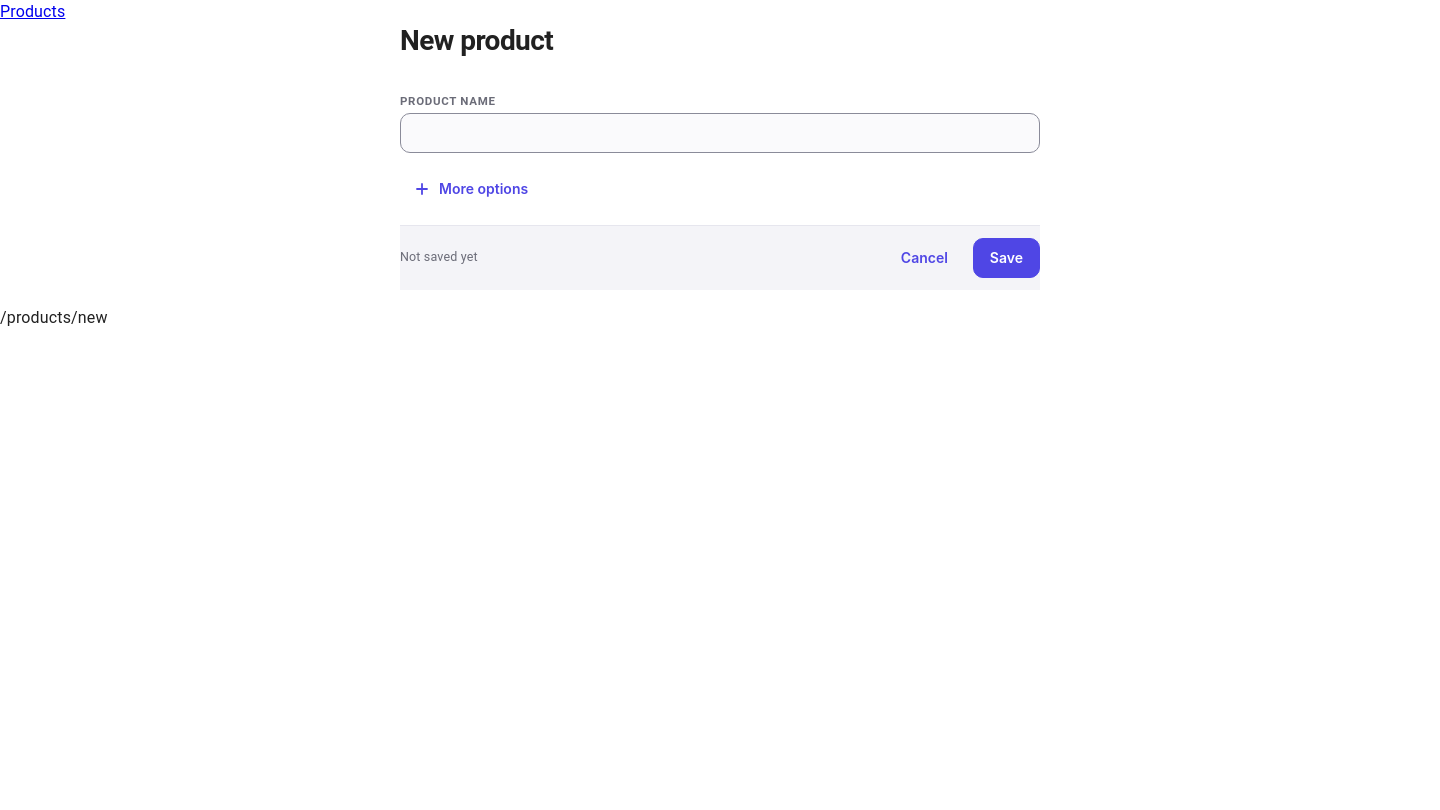
Test: leaving with unsaved changes asks first › a link stops and asks, Stay keeps you here with your changes, Leave goes on
Type "Soap" into the field labelled "Product name" at (720,132), box [401,114,1039,152]
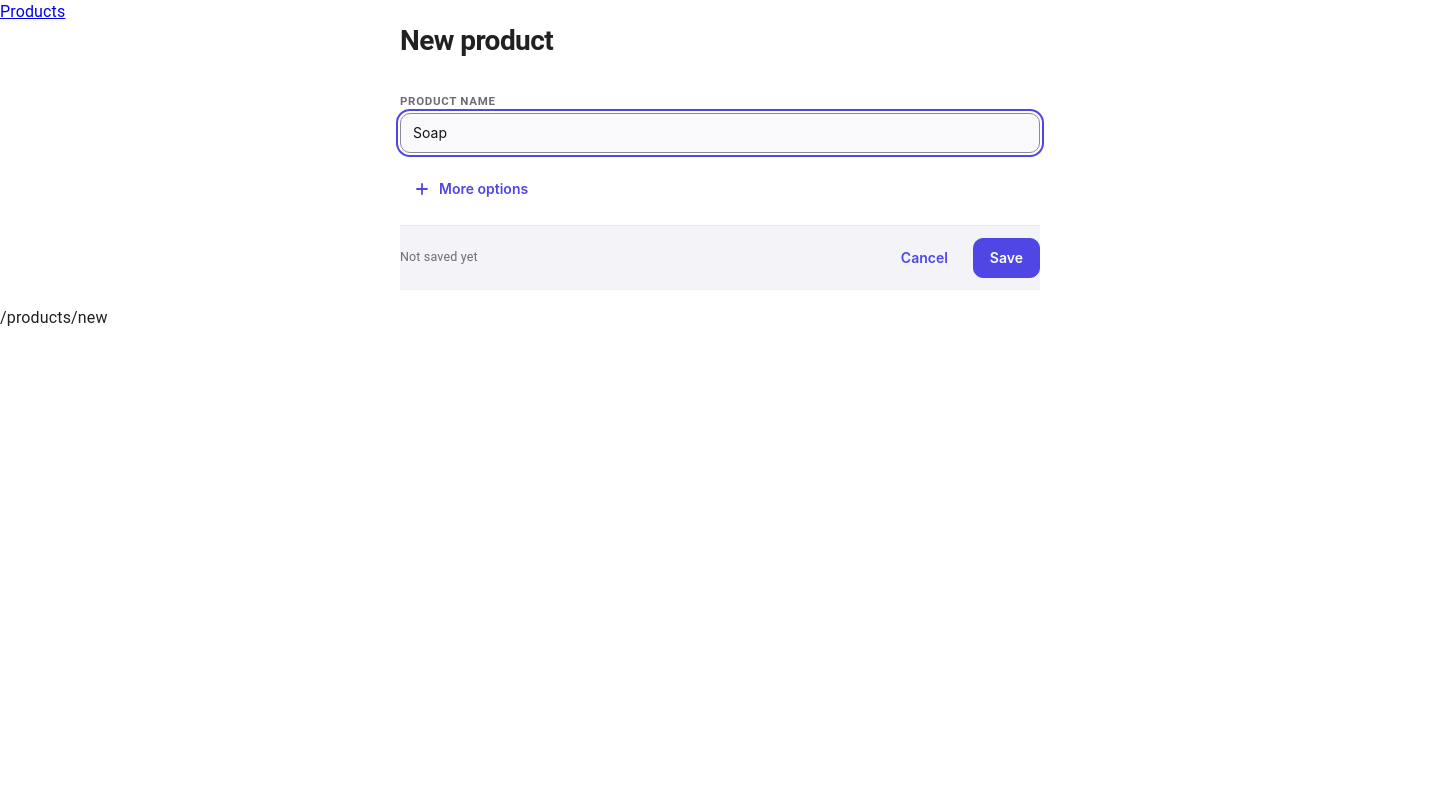
Click the link "Products" at (33,12), box [0,2,65,21]
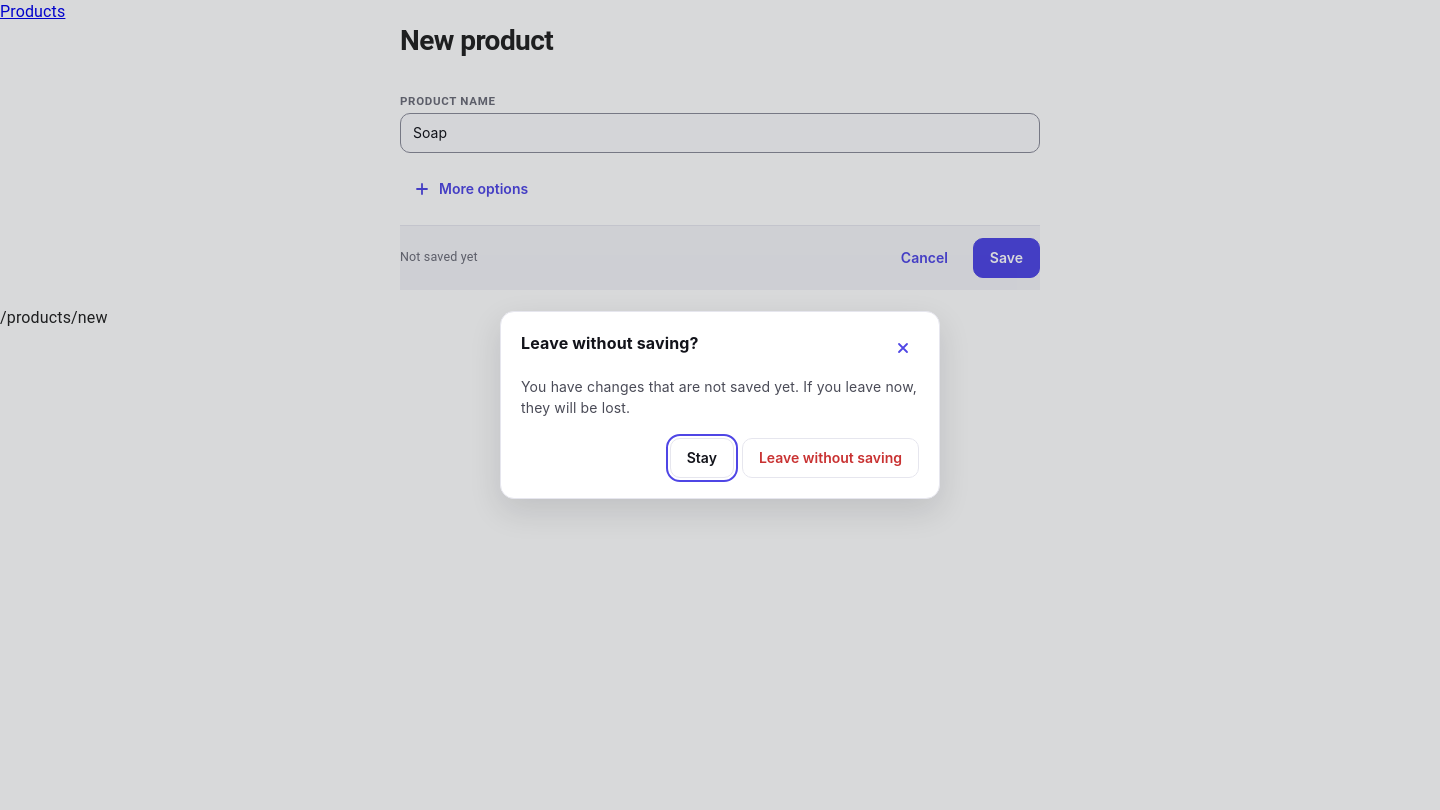
Expected: the text with test id "where" reads "/products/new", [0,308,108,326]
Now the dialog "Leave without saving?" shows "lost", box [521,378,917,416]
Click the button "Stay" at (702,458), box [670,438,734,478]
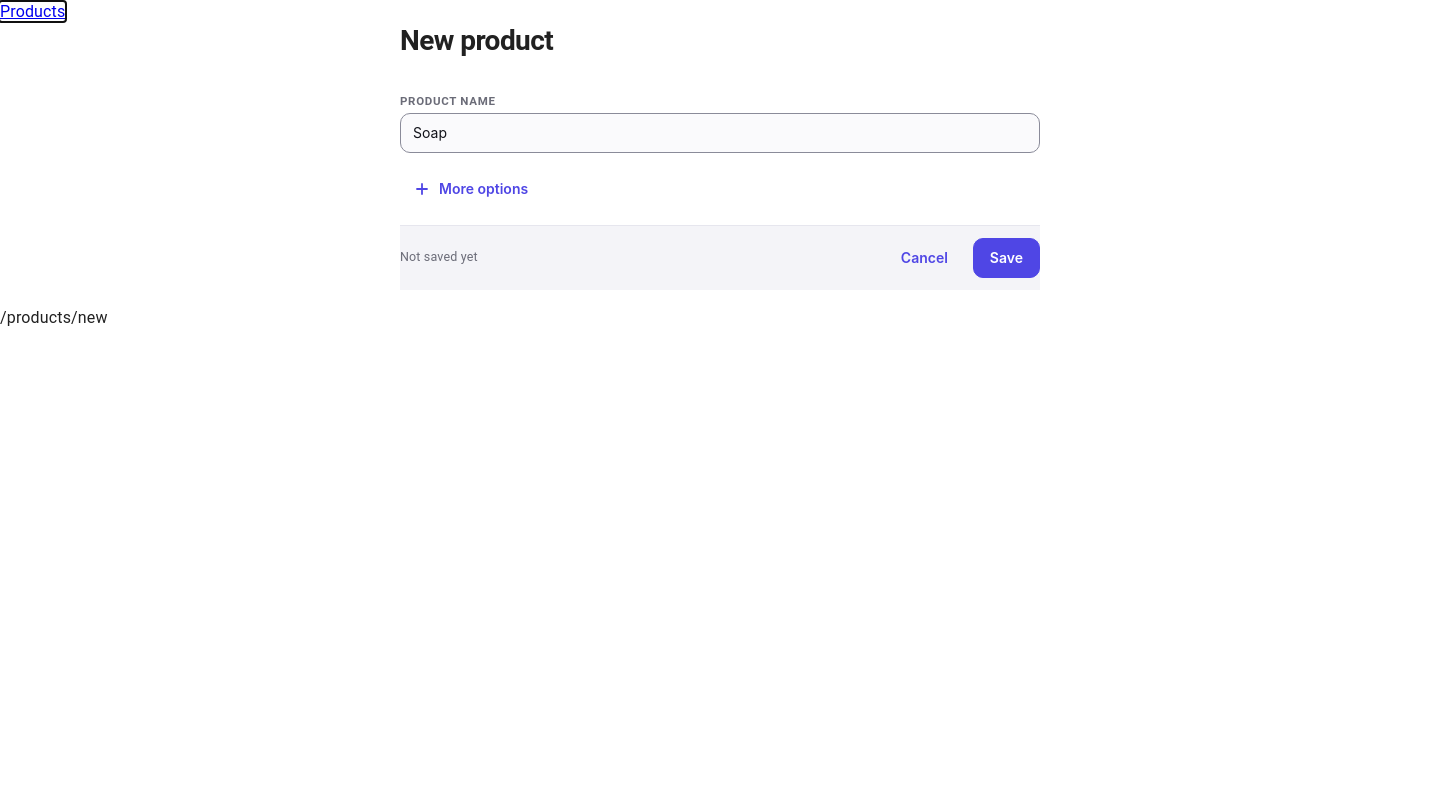
Click the link "Products" at (33,12), box [0,2,65,21]
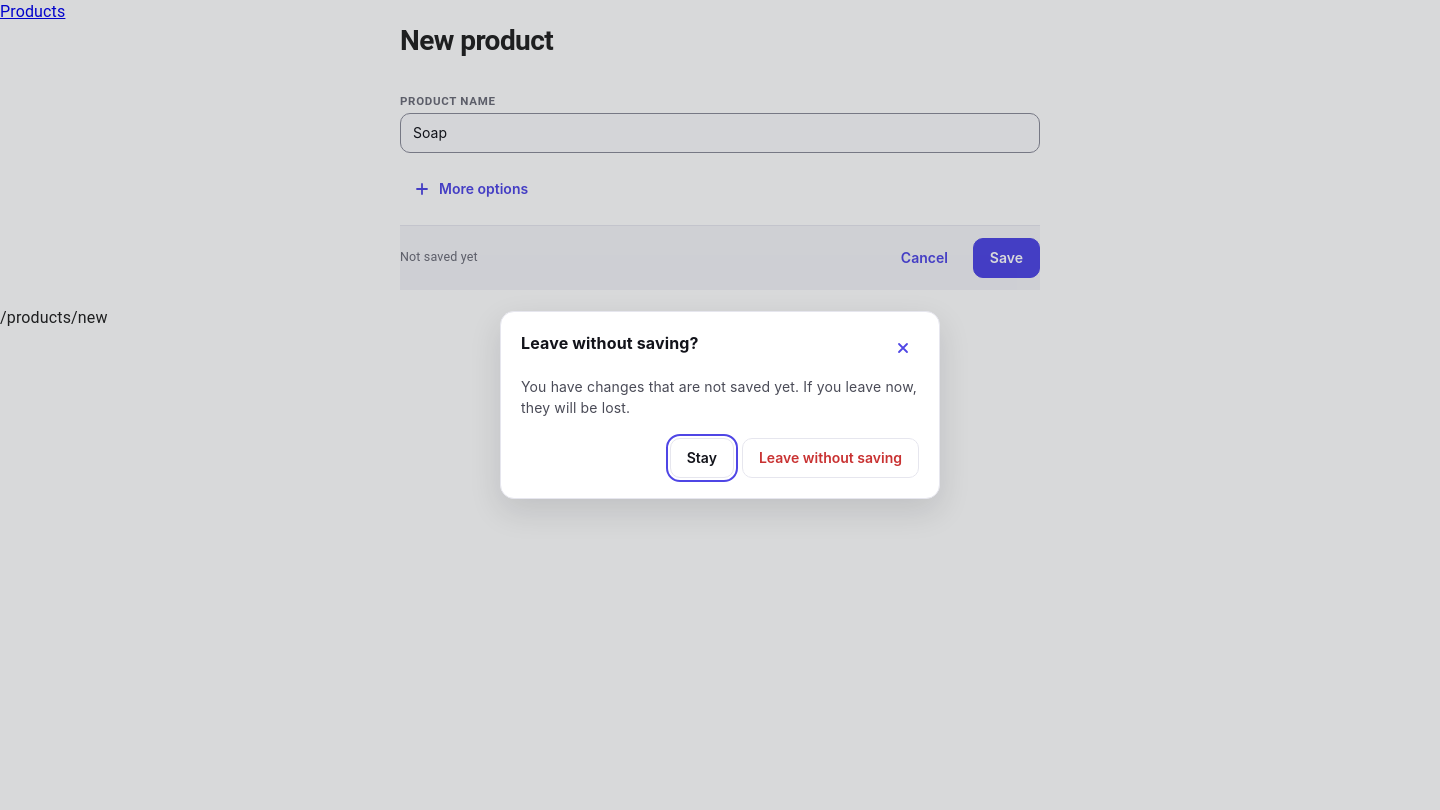
Click the button "Leave without saving" at (830,458), box [742,438,919,478]
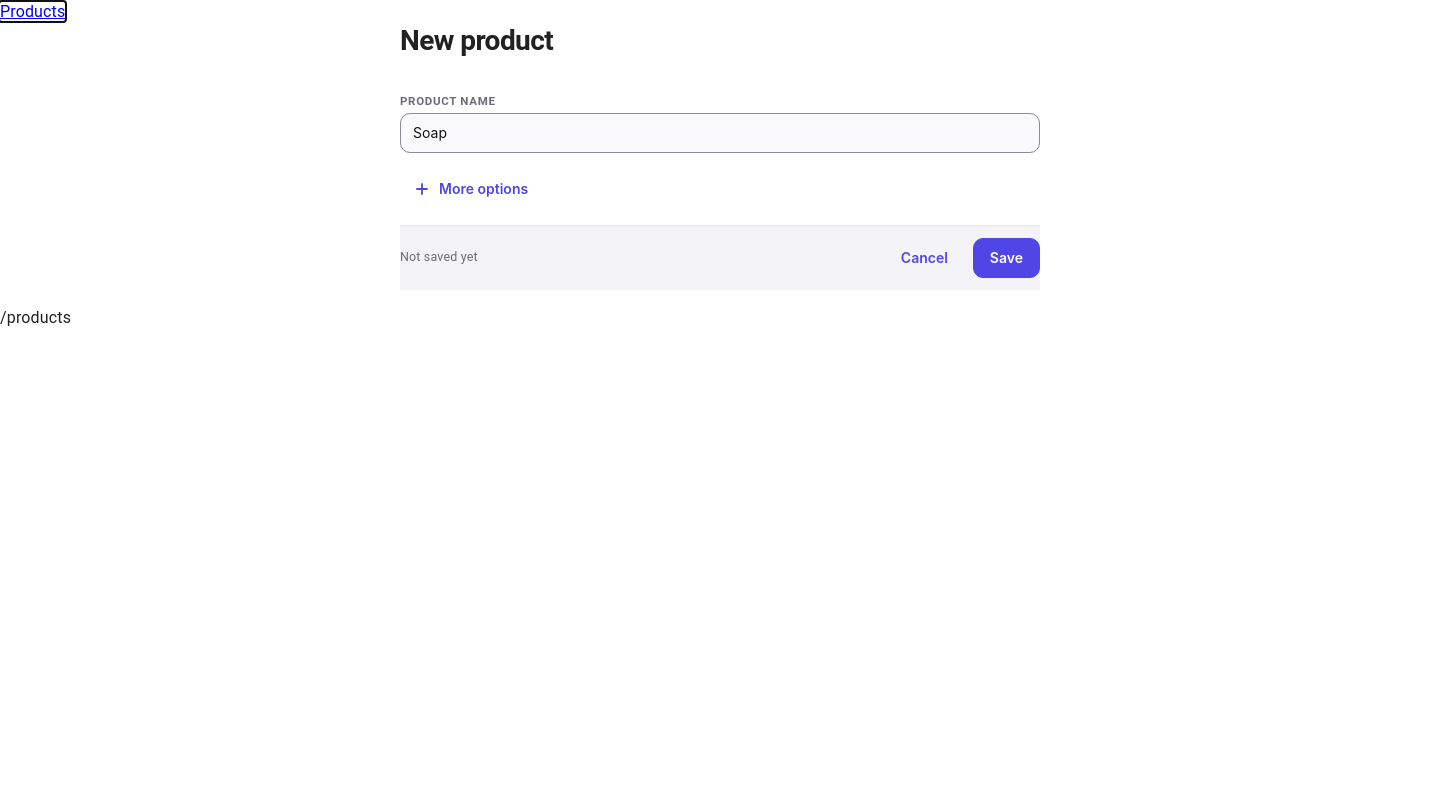
Now the text with test id "where" reads "/products", box [0,308,71,326]
Now the text with test id "where" no longer shows "/new", box [0,308,71,326]
